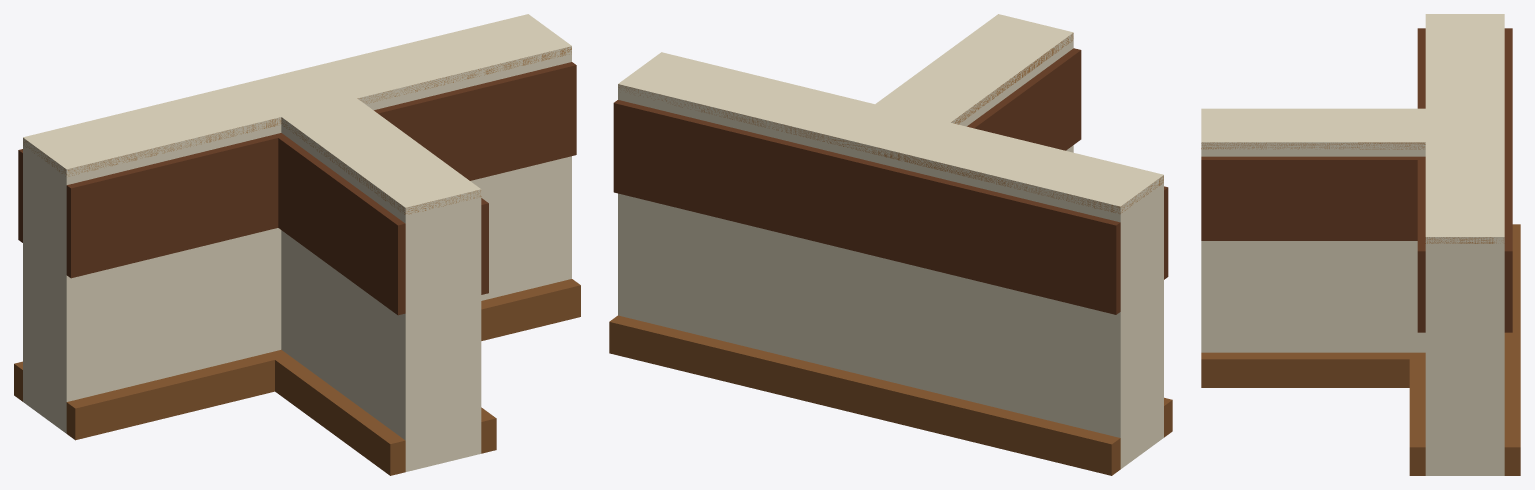
The model's file is partition-tee.glb.
3 views of the same model, side by side, from view 1: azimuth 30°, elevation 25°; view 2: azimuth 150°, elevation 25°; view 3: azimuth 270°, elevation 25° (orthographic). The views are drawn at different scales.
Parts seen in each view (by area): view 1: partition-tee; view 2: partition-tee; view 3: partition-tee.
Boxes of the visible parts, box(x1,y1,x2,y2) form: partition-tee: box(14, 14, 580, 475); partition-tee: box(609, 14, 1172, 475); partition-tee: box(1201, 14, 1520, 475).
Size of the model in its own units: 1 by 0.5 by 0.605.
Materials: 1 (1 with a texture image).
